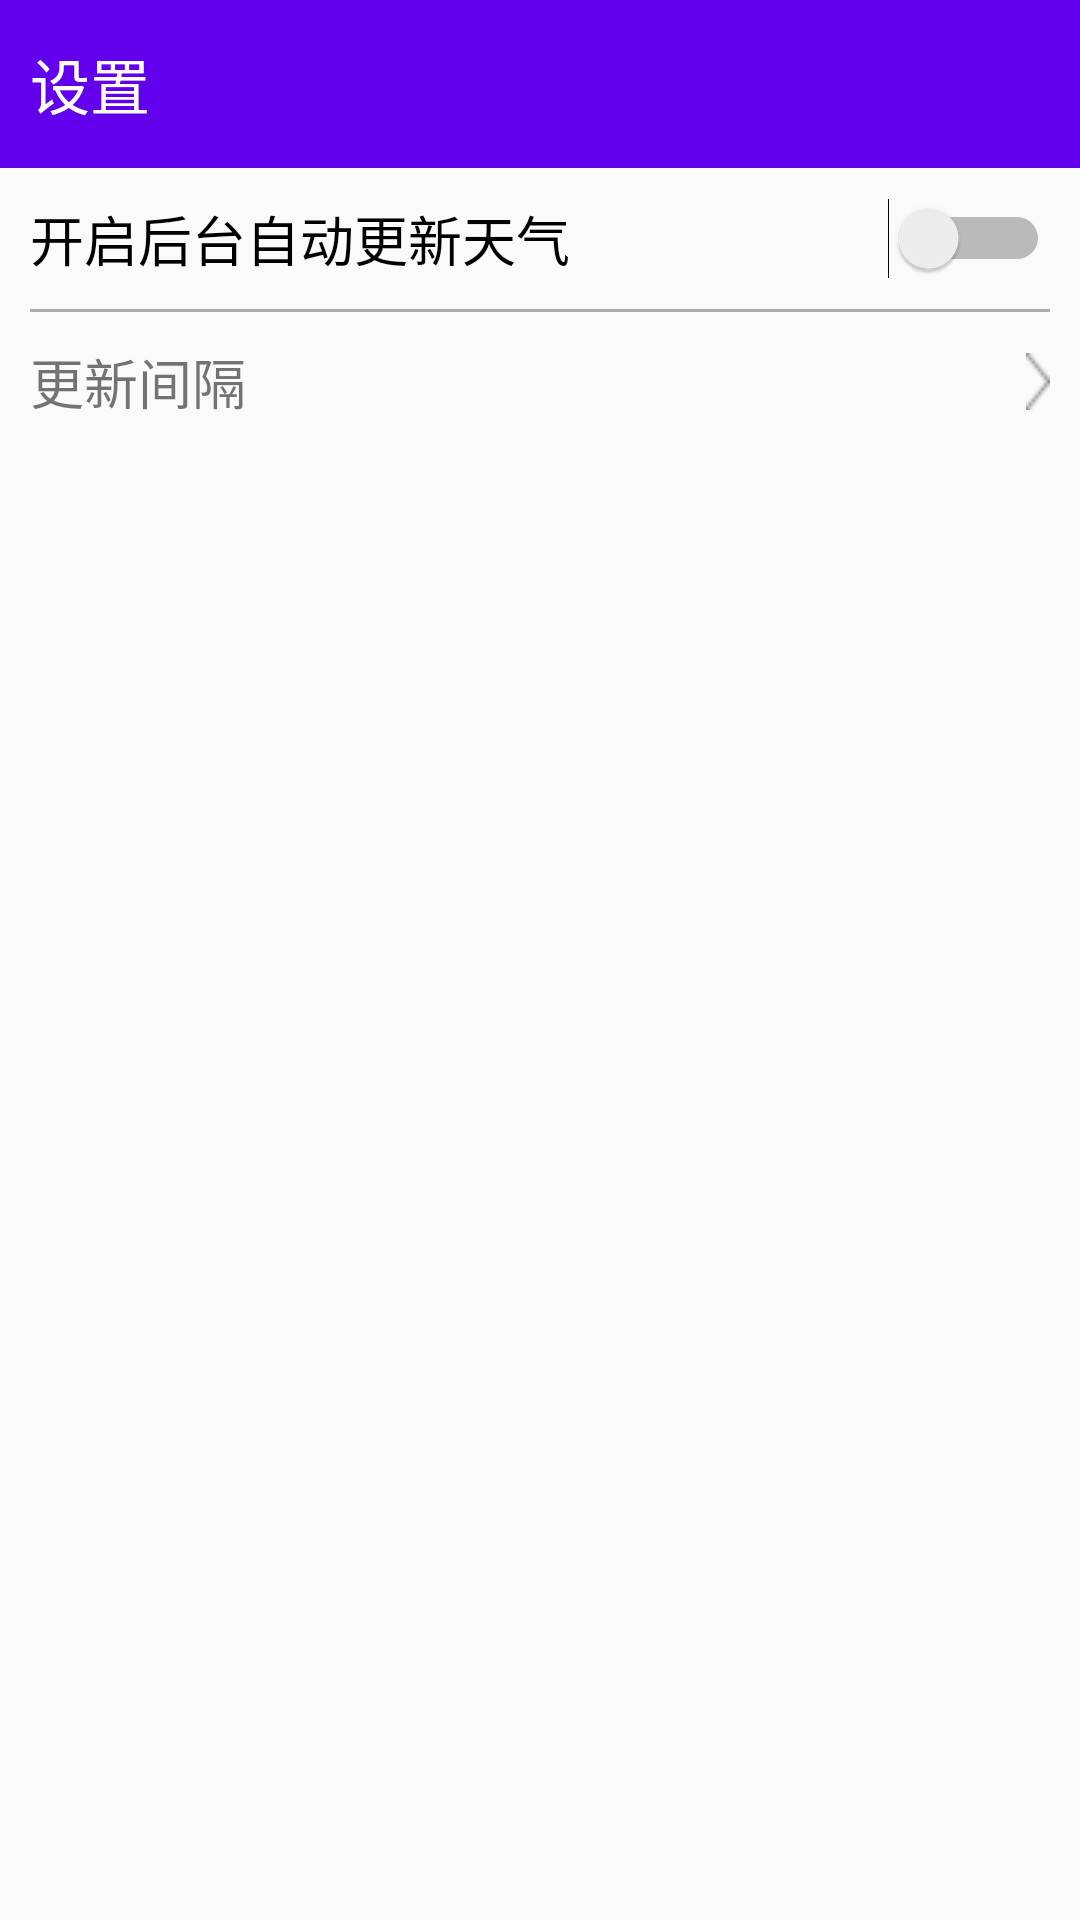

Named icons in this screenshot (1080 × 1920) and their centers, (x=x, y=y):
next: (x=1038, y=381)
